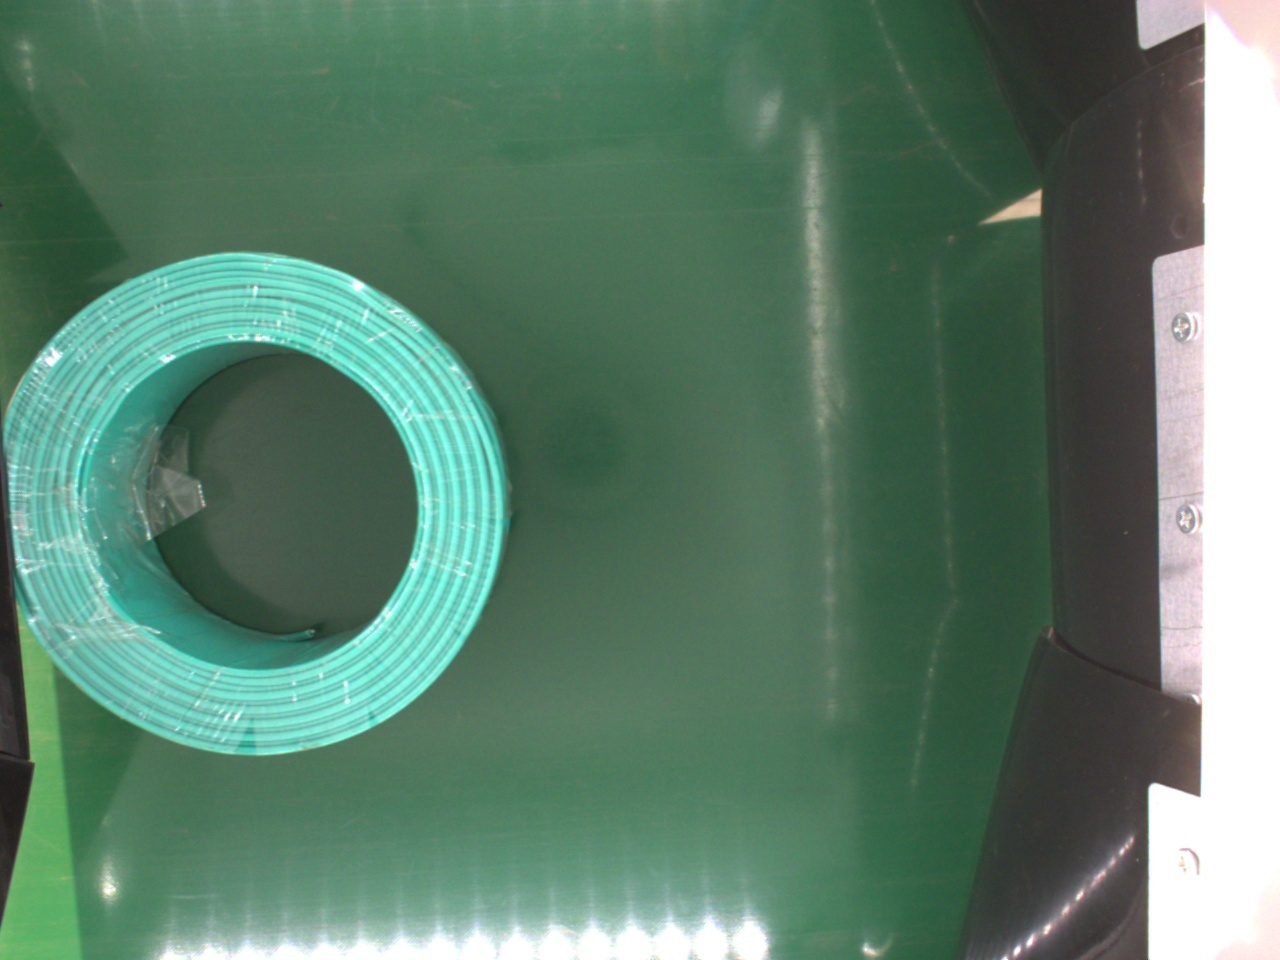green: (10, 253, 508, 760)
